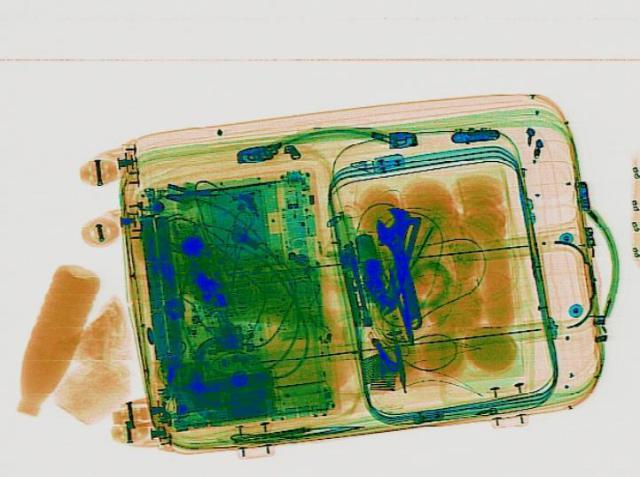Wrench: (368, 205, 436, 330)
